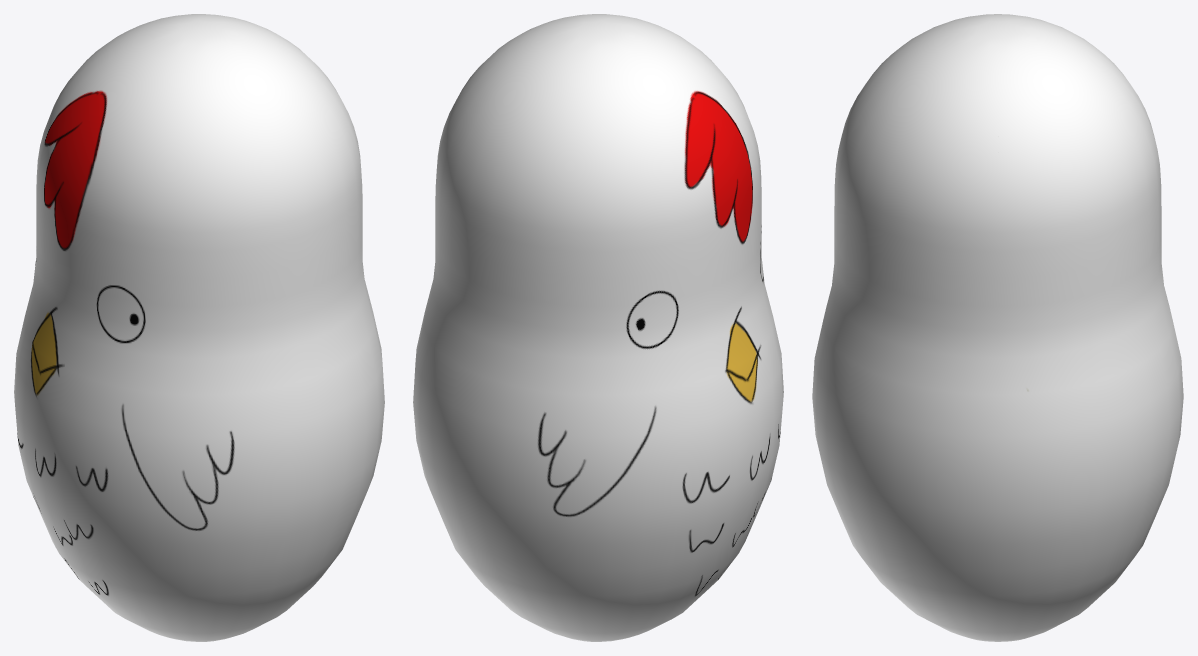
File: pollo_modelo.fbx
The picture shows the model from 3 angles, left to right: view 1: azimuth 30°, elevation 25°; view 2: azimuth 150°, elevation 25°; view 3: azimuth 270°, elevation 25°; orthographic projection.
Parts seen in each view (by area): view 1: pSphere2; view 2: pSphere2; view 3: pSphere2.
Boxes of the visible parts, x1,y1,x2,y2 form: pSphere2: (14,14,384,641); pSphere2: (413,14,783,641); pSphere2: (812,14,1183,641).
Bounding box in the file's own units: 137 × 245 × 137.
